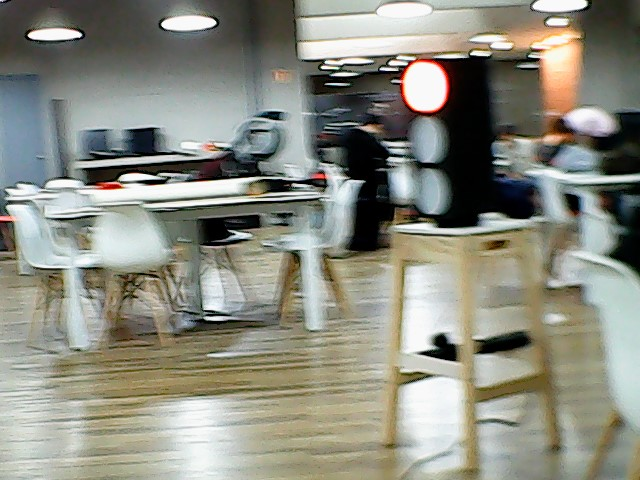vermelho: (397, 53, 507, 217)
